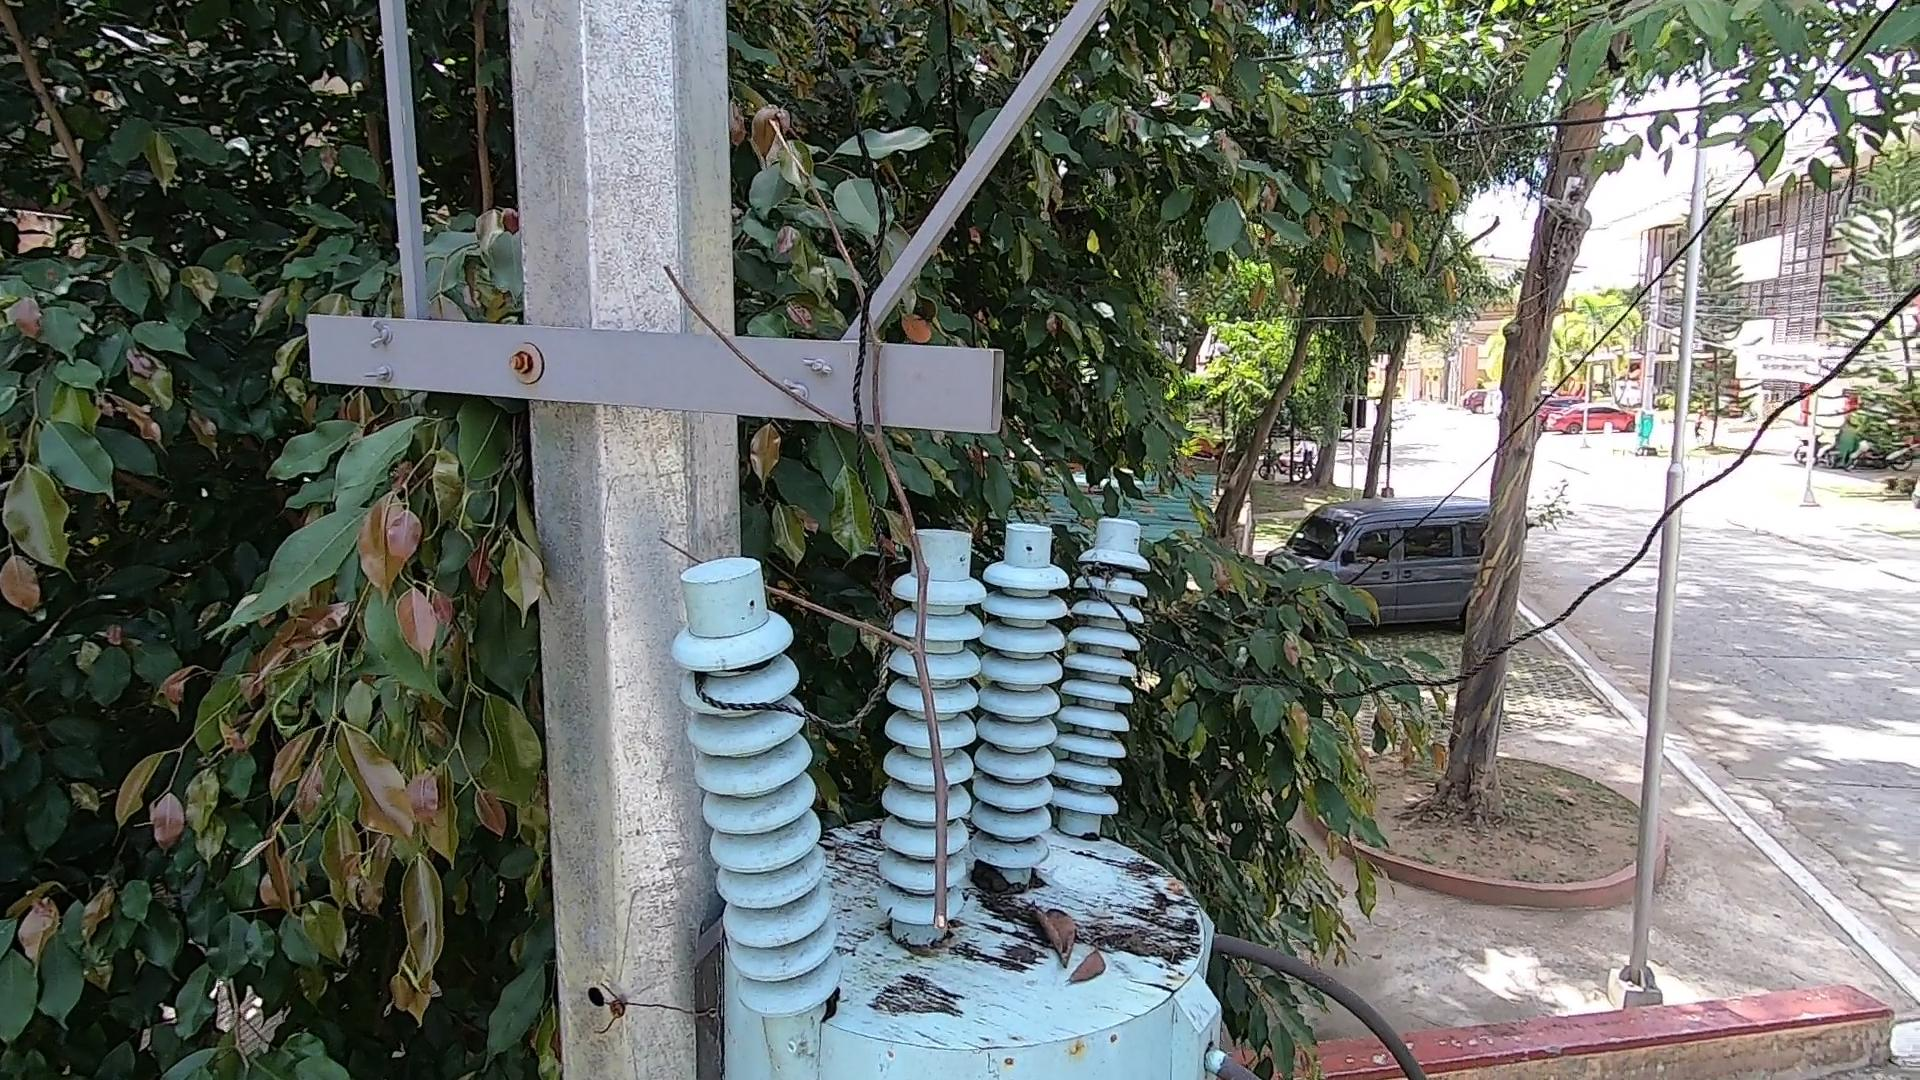leaf: (1013, 893, 1083, 963), (961, 853, 1015, 902), (1072, 949, 1120, 996)
tree branch: (663, 160, 1010, 930)
